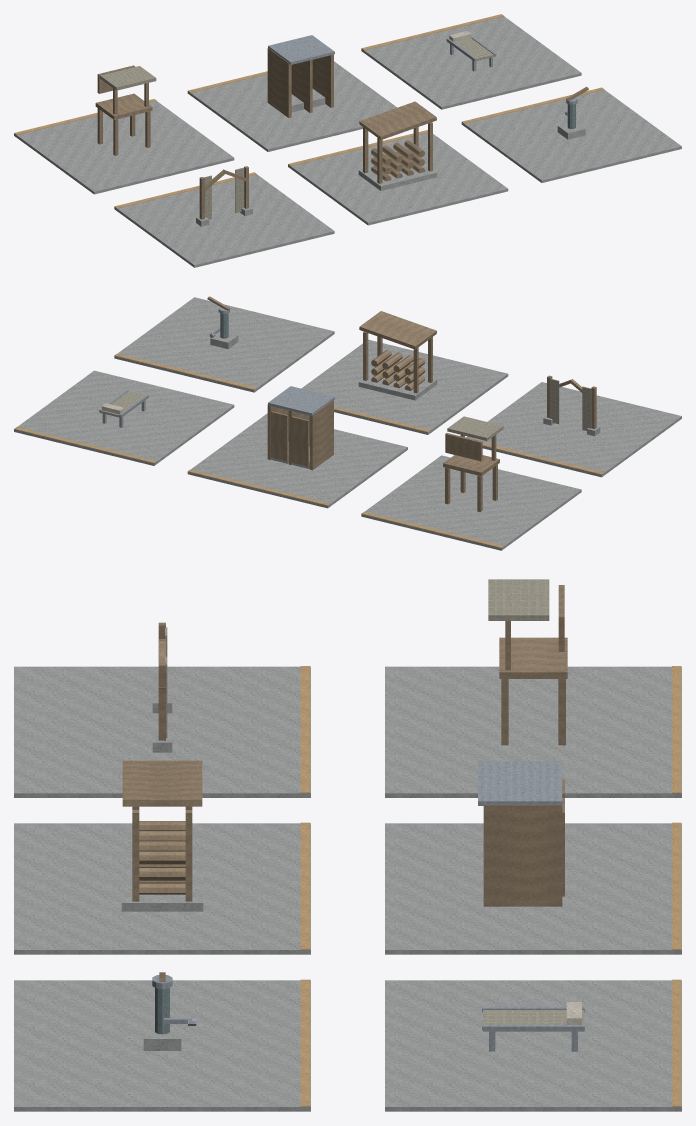
Rendered from level_blockout_kit_wld_02_p05.glb.
3 renders of one model, top to bottom at view 1: azimuth 30°, elevation 25°; view 2: azimuth 150°, elevation 25°; view 3: azimuth 270°, elevation 25°, orthographic. The views are drawn at different scales.
Parts seen in each view (by area): view 1: level_blockout_kit_wld_02_p05; view 2: level_blockout_kit_wld_02_p05; view 3: level_blockout_kit_wld_02_p05.
Part boxes in pixels (x1,y1,x2,y2): level_blockout_kit_wld_02_p05: [14, 14, 681, 267]; level_blockout_kit_wld_02_p05: [14, 296, 681, 550]; level_blockout_kit_wld_02_p05: [14, 579, 681, 1111].
Bounding box in the file's own units: 19.65 × 2.86 × 12.6.
7 materials, 7 textured.
